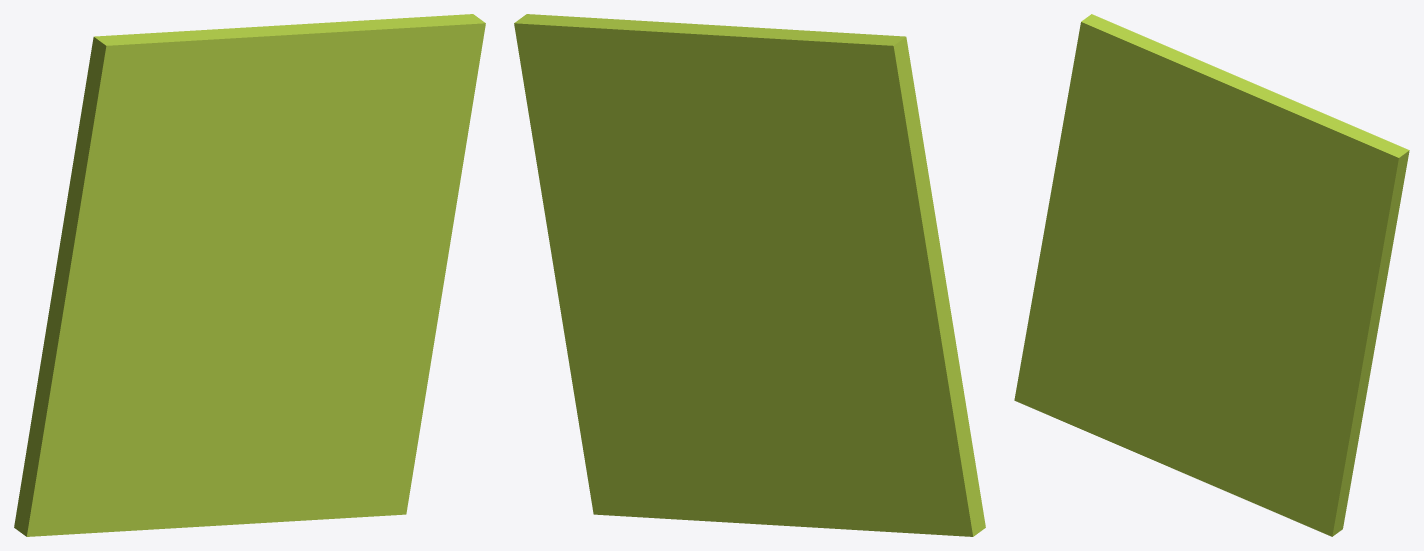
3 renders of one model, left to right at view 1: azimuth 30°, elevation 25°; view 2: azimuth 150°, elevation 25°; view 3: azimuth 330°, elevation 25°, orthographic. The views are drawn at different scales.
Visible parts, largest first — view 1: osm-way27917482-F-1; view 2: osm-way27917482-F-1; view 3: osm-way27917482-F-1.
Part boxes in pixels (left/top/right/bottom): osm-way27917482-F-1: left=14, top=14, right=485, bottom=536; osm-way27917482-F-1: left=514, top=14, right=985, bottom=536; osm-way27917482-F-1: left=1014, top=14, right=1409, bottom=536.
Size of the model in its own units: 3.13 by 3.52 by 0.15.
